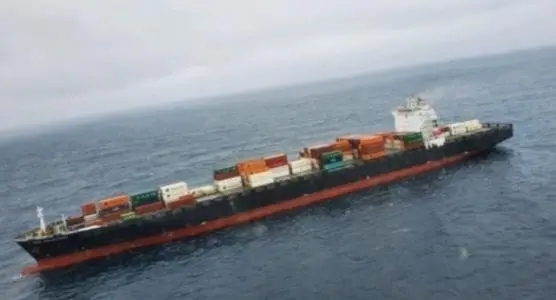Cargoship: (14, 88, 517, 266)
